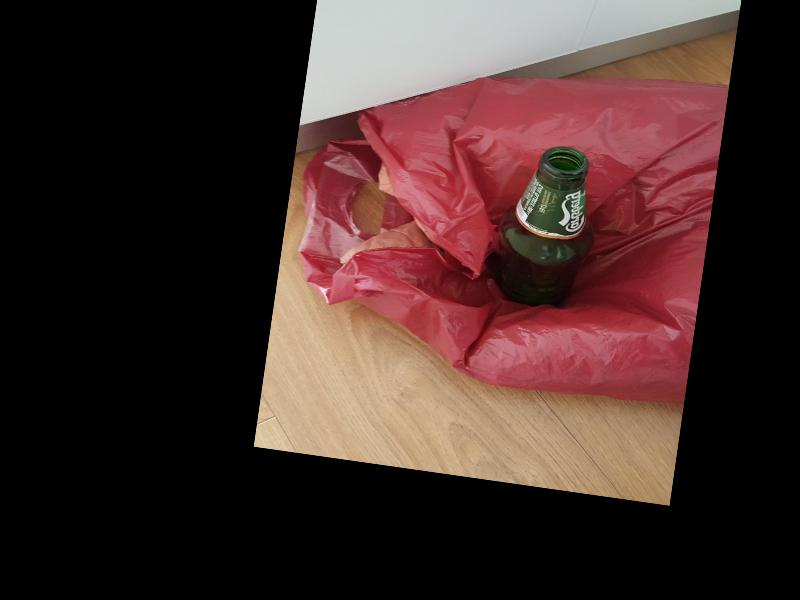Beer: (488, 140, 604, 313)
